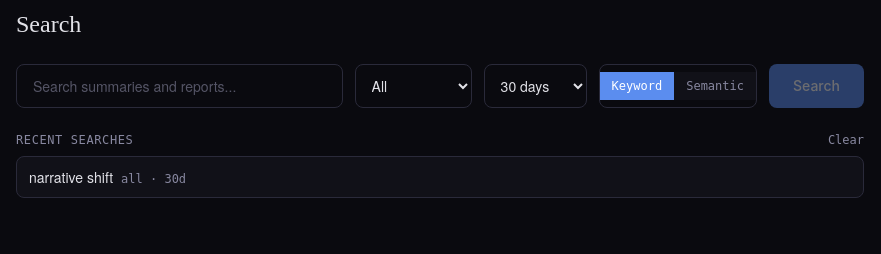
Test: Search › renders a regional divergence preview ahead of narrative shifts and softer heuristics on report hits when no higher-priority preview is present
In the field with placeholder "Search summaries and reports...": (179, 86) [16, 64, 343, 108], type "regional divergence"
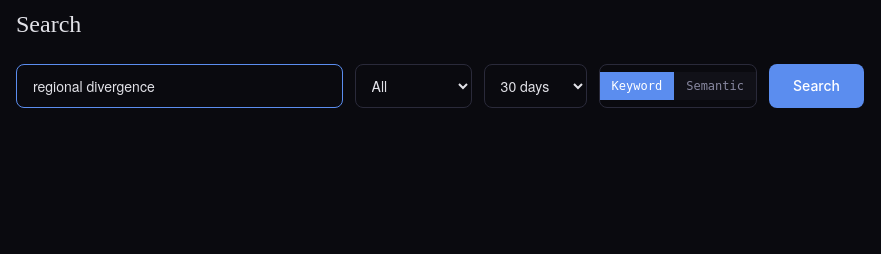
Click the button "Search": click(816, 86) [769, 64, 864, 108]
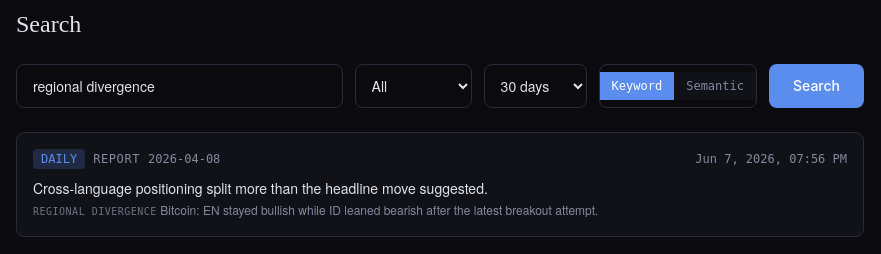
Check: the button "narrative shift" is not shown
Check: the text "Regional Divergence" is shown, box [33, 206, 157, 217]
Check: the text "Bitcoin: EN stayed bullish while ID leaned bearish after the latest breakout attempt." is shown, box [160, 201, 598, 218]
